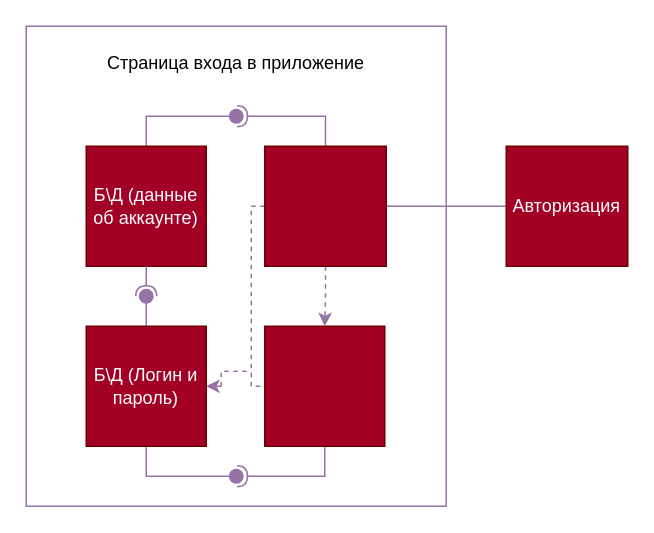
This 654x533 diagram has some shape labels left out. The centre of each missing label's shape, as x and y in pixels:
"Модуль проверки данных" goes at (324,205).
"Панель управления" goes at (324,385).
